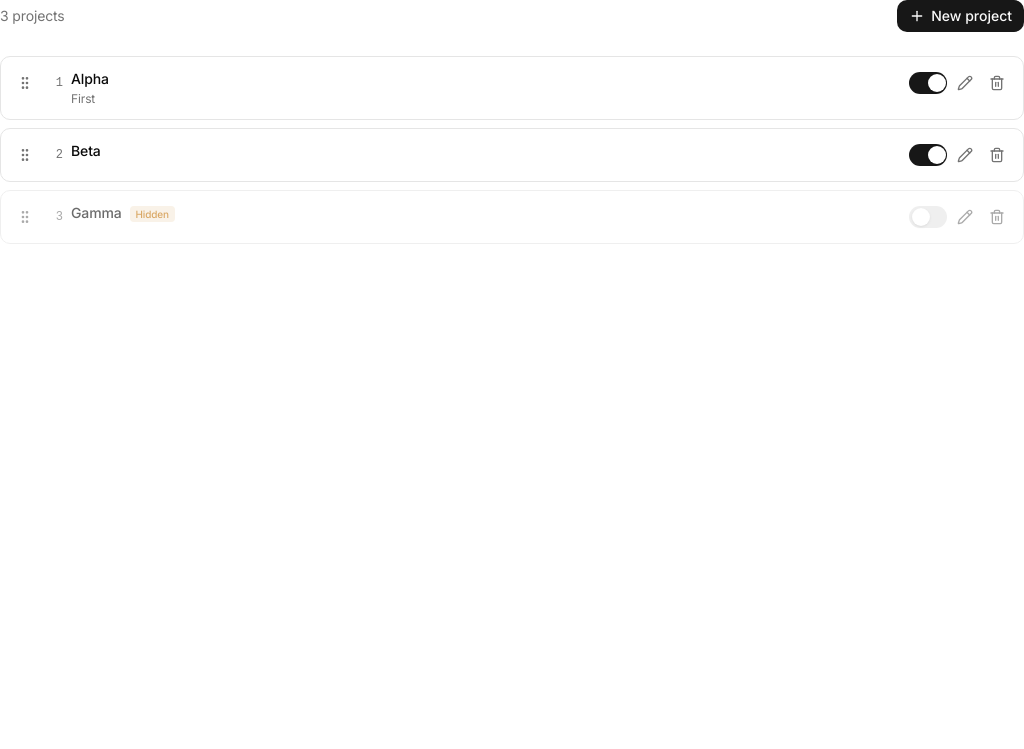
form › disables Save until something changes
This screenshot has width=1024, height=749.
Click the button named "Edit Alpha": (965, 83) x1=951 y1=69 x2=979 y2=97
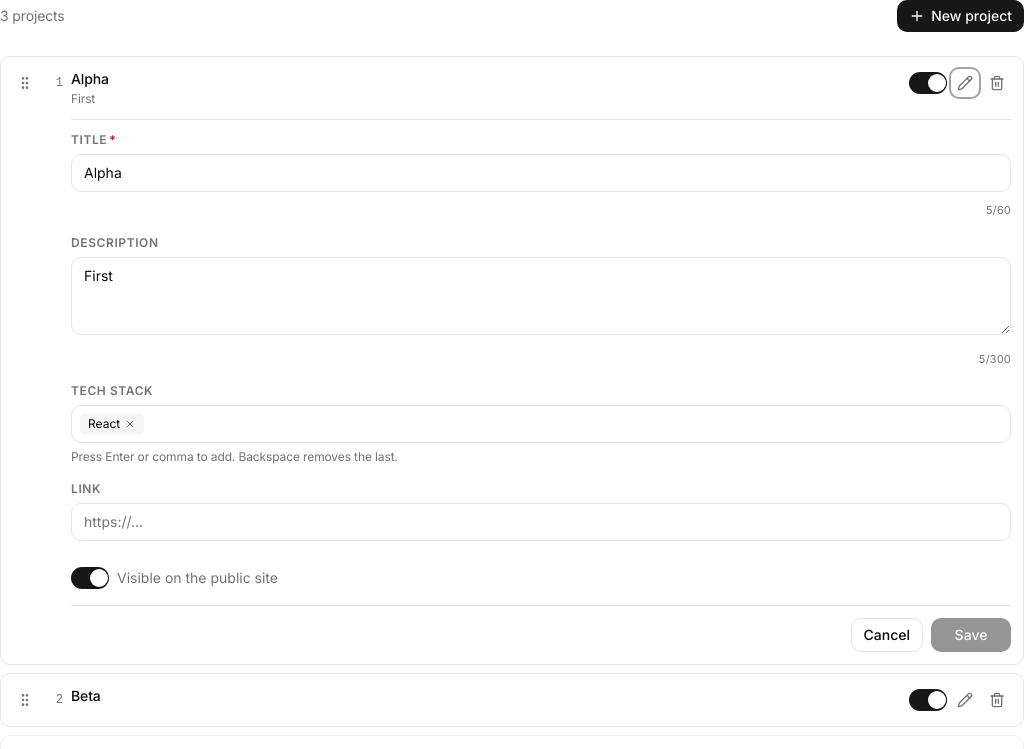
Now the button "Save" is disabled, box x1=931 y1=618 x2=1011 y2=652
In the field labelled "Title*": (541, 173) x1=71 y1=154 x2=1011 y2=192, type "!"
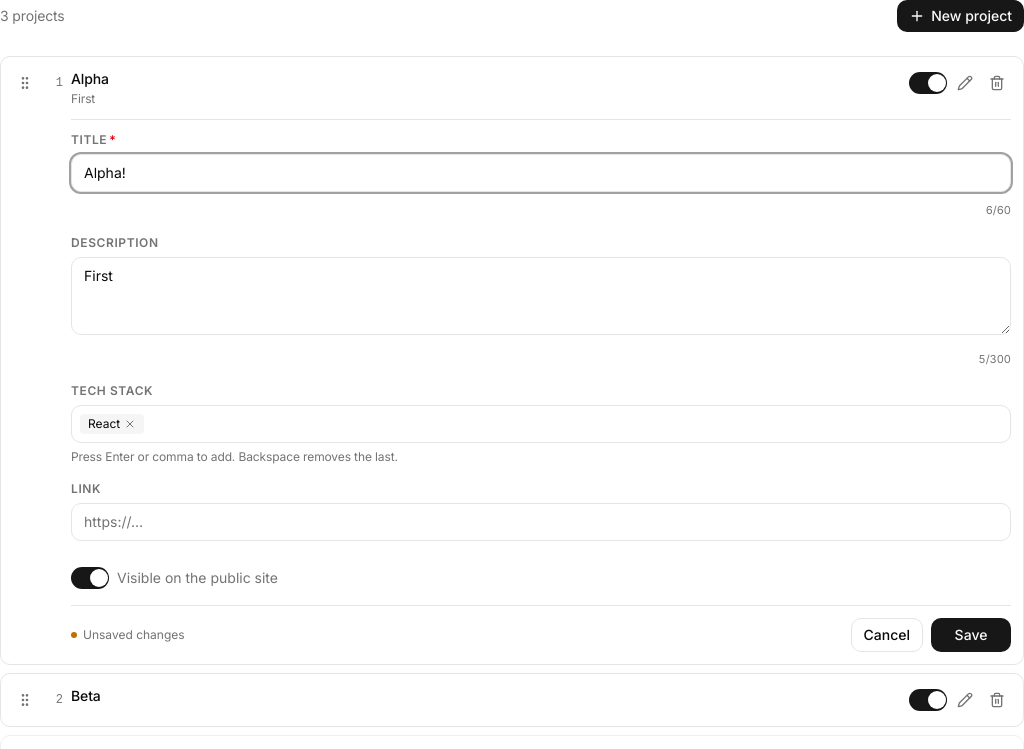
Now the button "Save" is enabled, box x1=931 y1=618 x2=1011 y2=652
